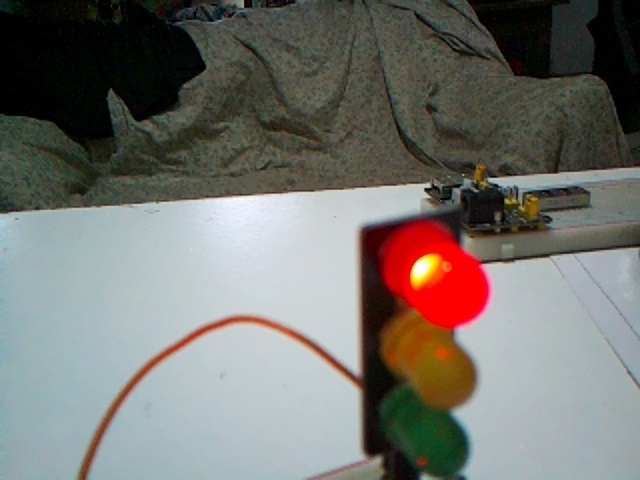traffic_light_red: (361, 212, 489, 477)
